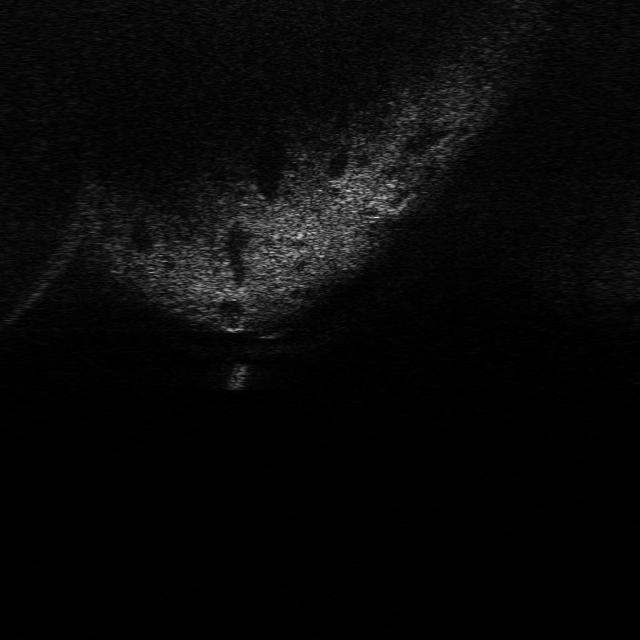cylinder: (223, 360, 256, 392)
